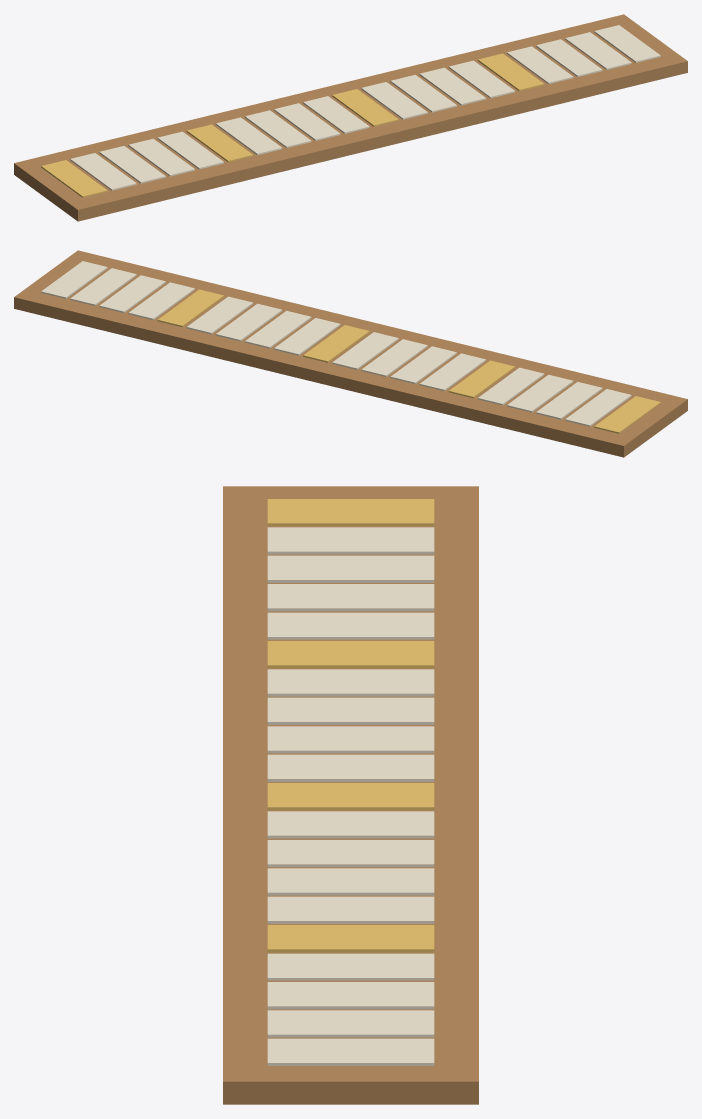
The model's file is tabletop-game-components-score-track-2cba7038__20890.glb.
3 views of the same model, one above another, from view 1: azimuth 30°, elevation 25°; view 2: azimuth 150°, elevation 25°; view 3: azimuth 270°, elevation 25° (orthographic). The views are drawn at different scales.
Visible parts, largest first — view 1: score-track; view 2: score-track; view 3: score-track.
Part boxes in pixels (left/top/right/bottom): score-track: left=14, top=14, right=687, bottom=221; score-track: left=14, top=250, right=687, bottom=457; score-track: left=223, top=486, right=478, bottom=1104.
Bounding box in the file's own units: 0.22 × 0.0045 × 0.04.
